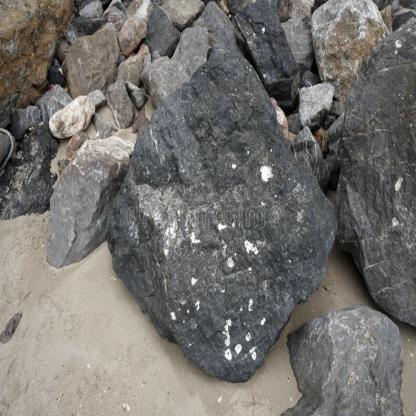Sedimentary_Limestone: (102, 44, 340, 380), (328, 19, 416, 342), (288, 292, 415, 415), (44, 125, 122, 255), (0, 0, 77, 129)
